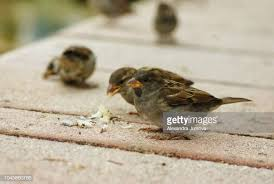hsparrow: (127, 68, 248, 143), (103, 66, 205, 101)
